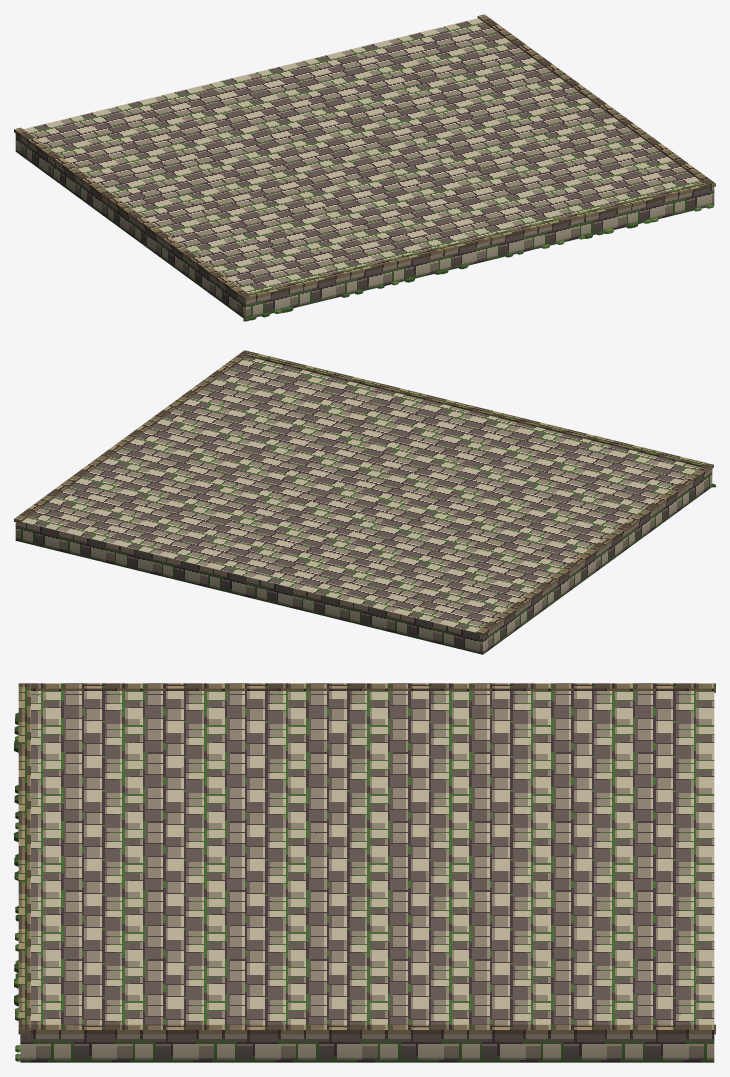
Rendered from scene_wall_s.glb.
3 views of the same model, one above another, from view 1: azimuth 30°, elevation 25°; view 2: azimuth 150°, elevation 25°; view 3: azimuth 270°, elevation 25° (orthographic). The views are drawn at different scales.
Parts seen in each view (by area): view 1: scene_wall_s; view 2: scene_wall_s; view 3: scene_wall_s.
Boxes of the visible parts, <box> form: scene_wall_s: <box>14,14,715,321</box>; scene_wall_s: <box>14,350,715,654</box>; scene_wall_s: <box>14,683,715,1062</box>.
Bounding box in the file's own units: 24.2 × 1.17 × 20.64.
2 materials, 1 textured.
